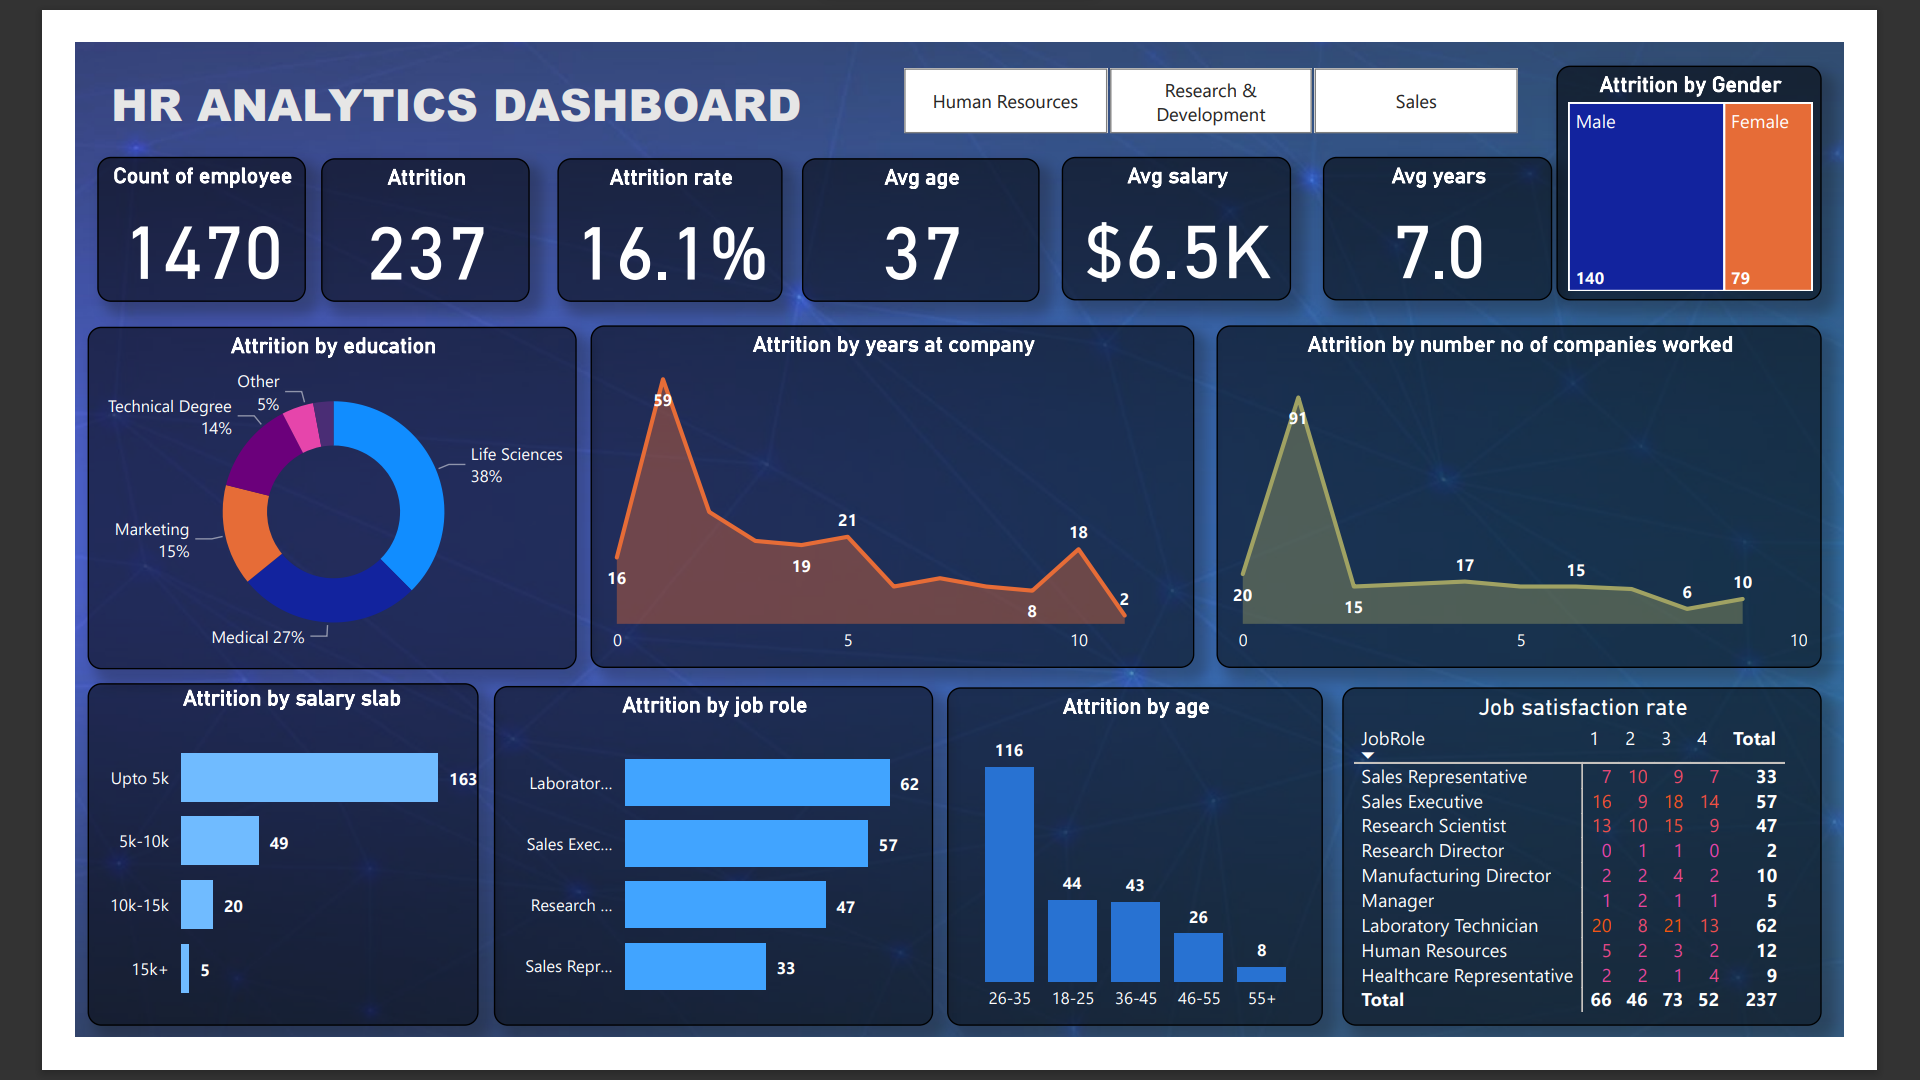

The dashboard page shown, as its layout file describes it:
{"tool":"powerbi","page":{"name":"Page 1","canvas":[1280,720],"ordinal":0},"visuals":[{"type":"card","title":"Count of employee","fields":{"Values":["CountNonNull(HR_Analytics.EmpID)"]},"box":[16.3,82.6,151.2,105.8],"z":0},{"type":"card","title":"Attrition","fields":{"Values":["Sum(HR_Analytics.attrition_column)"]},"box":[177.9,83.7,151.2,104.7],"z":1000},{"type":"card","title":"Attrition rate","fields":{"Values":["HR_Analytics.attritionrate"]},"box":[348.8,83.7,162.8,104.7],"z":2000},{"type":"card","title":"Avg age","fields":{"Values":["Avg(HR_Analytics.Age)"]},"box":[525.6,83.7,172.1,104.7],"z":3000},{"type":"card","title":"Avg salary","fields":{"Values":["Avg(HR_Analytics.MonthlyIncome)"]},"box":[714,82.6,166.3,104.7],"z":4000},{"type":"card","title":"Avg years","fields":{"Values":["Avg(HR_Analytics.YearsAtCompany)"]},"box":[903.5,82.6,165.1,104.7],"z":5000},{"type":"donutChart","title":"Attrition by education","fields":{"Category":["HR_Analytics.EducationField"],"Y":["Sum(HR_Analytics.attrition_column)"]},"box":[8.9,205.9,353.9,248.2],"z":6000},{"type":"clusteredColumnChart","title":"Attrition by age","fields":{"Category":["HR_Analytics.AgeGroup"],"Y":["Sum(HR_Analytics.attrition_column)"]},"box":[631.4,467.4,272.1,244.2],"z":7000},{"type":"pivotTable","title":"Job satisfaction rate","fields":{"Rows":["HR_Analytics.JobRole"],"Columns":["HR_Analytics.JobSatisfaction"],"Values":["Sum(HR_Analytics.attrition_column)"]},"box":[917.4,467.4,346.5,244.2],"z":8000},{"type":"clusteredBarChart","title":"Attrition by salary slab","fields":{"Category":["HR_Analytics.SalarySlab"],"Y":["Sum(HR_Analytics.attrition_column)"]},"box":[9.3,464,282.6,247.7],"z":9000},{"type":"clusteredBarChart","title":"Attrition by job role","fields":{"Category":["HR_Analytics.JobRole"],"Y":["Sum(HR_Analytics.attrition_column)"]},"box":[303.5,466.3,317.4,245.3],"z":10000},{"type":"areaChart","title":"Attrition by years at company","fields":{"Category":["HR_Analytics.YearsAtCompany"],"Y":["Sum(HR_Analytics.attrition_column)"]},"box":[372.8,204.8,437.3,248.2],"z":11000},{"type":"treemap","title":"Attrition by Gender","fields":{"Group":["HR_Analytics.Gender"],"Values":["Sum(HR_Analytics.attrition_column)"]},"box":[1072.1,17.4,191.9,169.8],"z":12000},{"type":"textbox","box":[20.9,17.4,540.7,65.1],"z":13000},{"type":"slicer","title":"Department","fields":{"Values":["HR_Analytics.Department"]},"box":[574.2,12.2,494.1,61.2],"z":14000},{"type":"areaChart","title":"Attrition by number no of companies worked","fields":{"Category":["HR_Analytics.NumCompaniesWorked"],"Y":["Sum(HR_Analytics.attrition_column)"]},"box":[825.7,204.8,438.5,248.2],"z":15000}]}

Visuals, with their boxes in screenshot pixels (x1, y1, x2, y2), scaled from the page's 1280x720 canvas onto the 1920x1080 screenshot:
"Count of employee" card: (x1=24, y1=124, x2=251, y2=283)
"Attrition" card: (x1=267, y1=126, x2=494, y2=283)
"Attrition rate" card: (x1=523, y1=126, x2=767, y2=283)
"Avg age" card: (x1=788, y1=126, x2=1047, y2=283)
"Avg salary" card: (x1=1071, y1=124, x2=1320, y2=281)
"Avg years" card: (x1=1355, y1=124, x2=1603, y2=281)
"Attrition by education" donutChart: (x1=13, y1=309, x2=544, y2=681)
"Attrition by age" clusteredColumnChart: (x1=947, y1=701, x2=1355, y2=1067)
"Job satisfaction rate" pivotTable: (x1=1376, y1=701, x2=1896, y2=1067)
"Attrition by salary slab" clusteredBarChart: (x1=14, y1=696, x2=438, y2=1068)
"Attrition by job role" clusteredBarChart: (x1=455, y1=699, x2=931, y2=1067)
"Attrition by years at company" areaChart: (x1=559, y1=307, x2=1215, y2=680)
"Attrition by Gender" treemap: (x1=1608, y1=26, x2=1896, y2=281)
textbox: (x1=31, y1=26, x2=842, y2=124)
"Department" slicer: (x1=861, y1=18, x2=1602, y2=110)
"Attrition by number no of companies worked" areaChart: (x1=1239, y1=307, x2=1896, y2=680)
